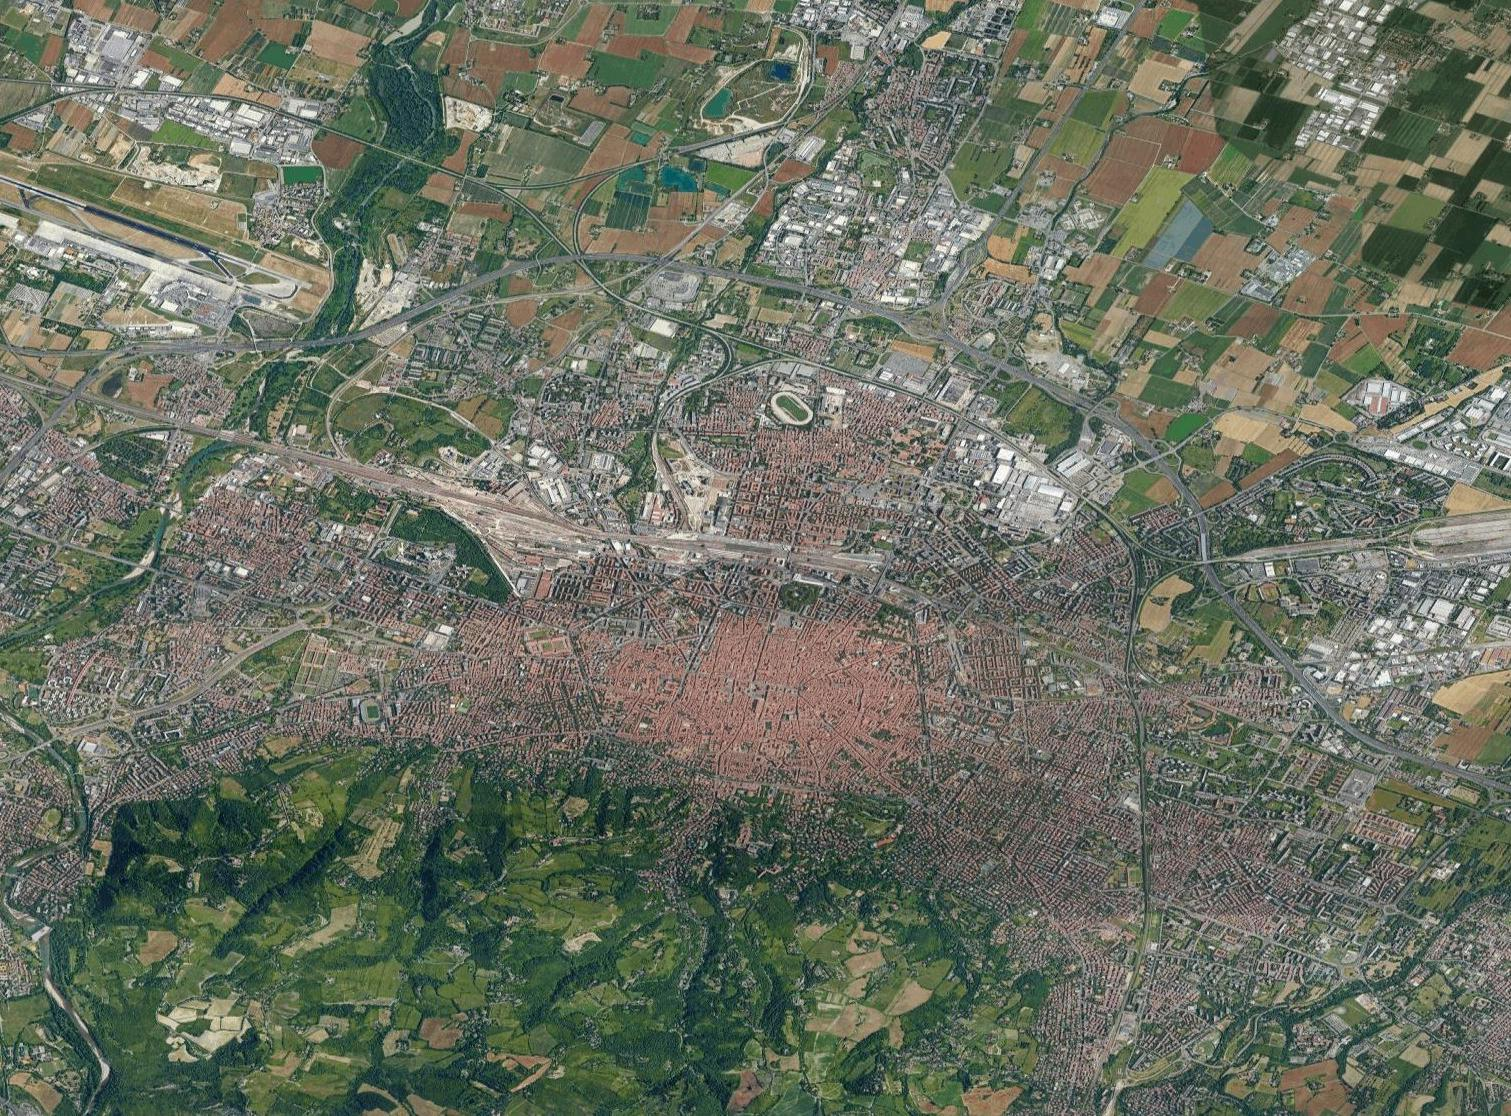train_station: (714, 539, 780, 557)
